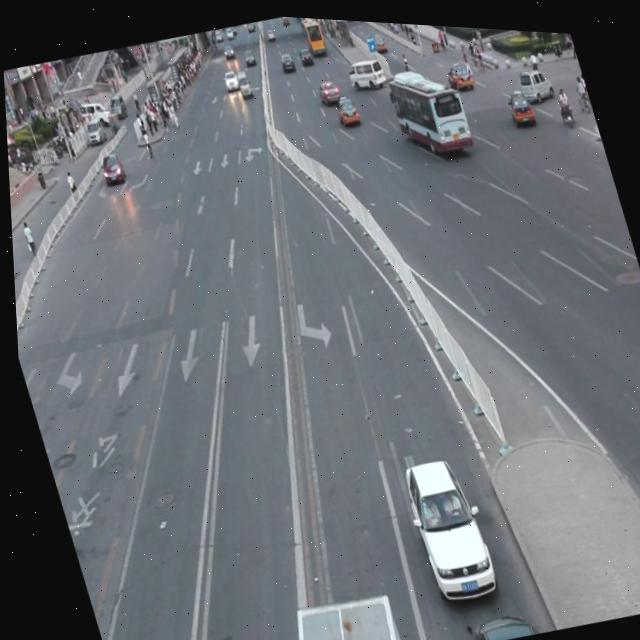bus: (269, 579, 399, 640)
car: (392, 442, 494, 601), (458, 596, 534, 640)
